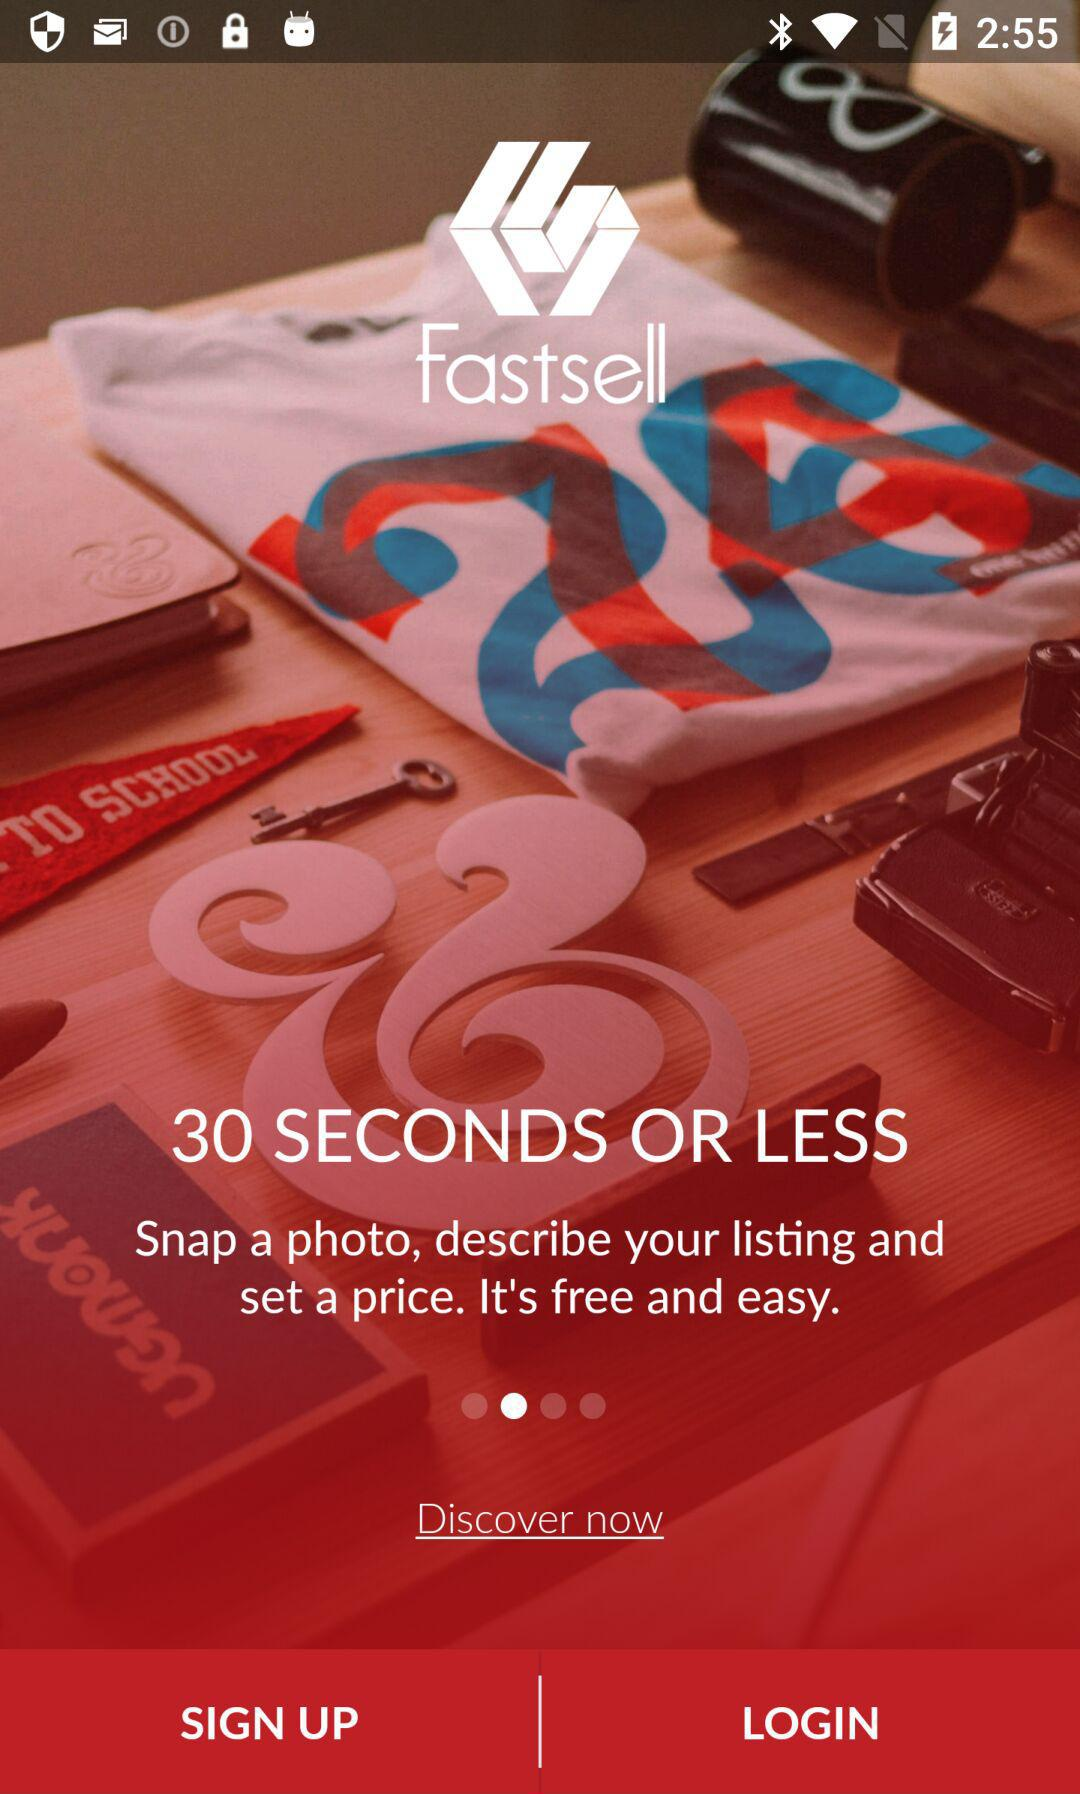BackgroundImage: (1, 64, 1080, 1649)
Image: (414, 140, 667, 404)
PageIndicator: (459, 1390, 609, 1422)
Text: (131, 1217, 945, 1325), (170, 1106, 912, 1167), (416, 1501, 667, 1542)
TextButton: (1, 1649, 541, 1794), (542, 1649, 1080, 1794)
UpperTaskBar: (1, 1, 1080, 64)
